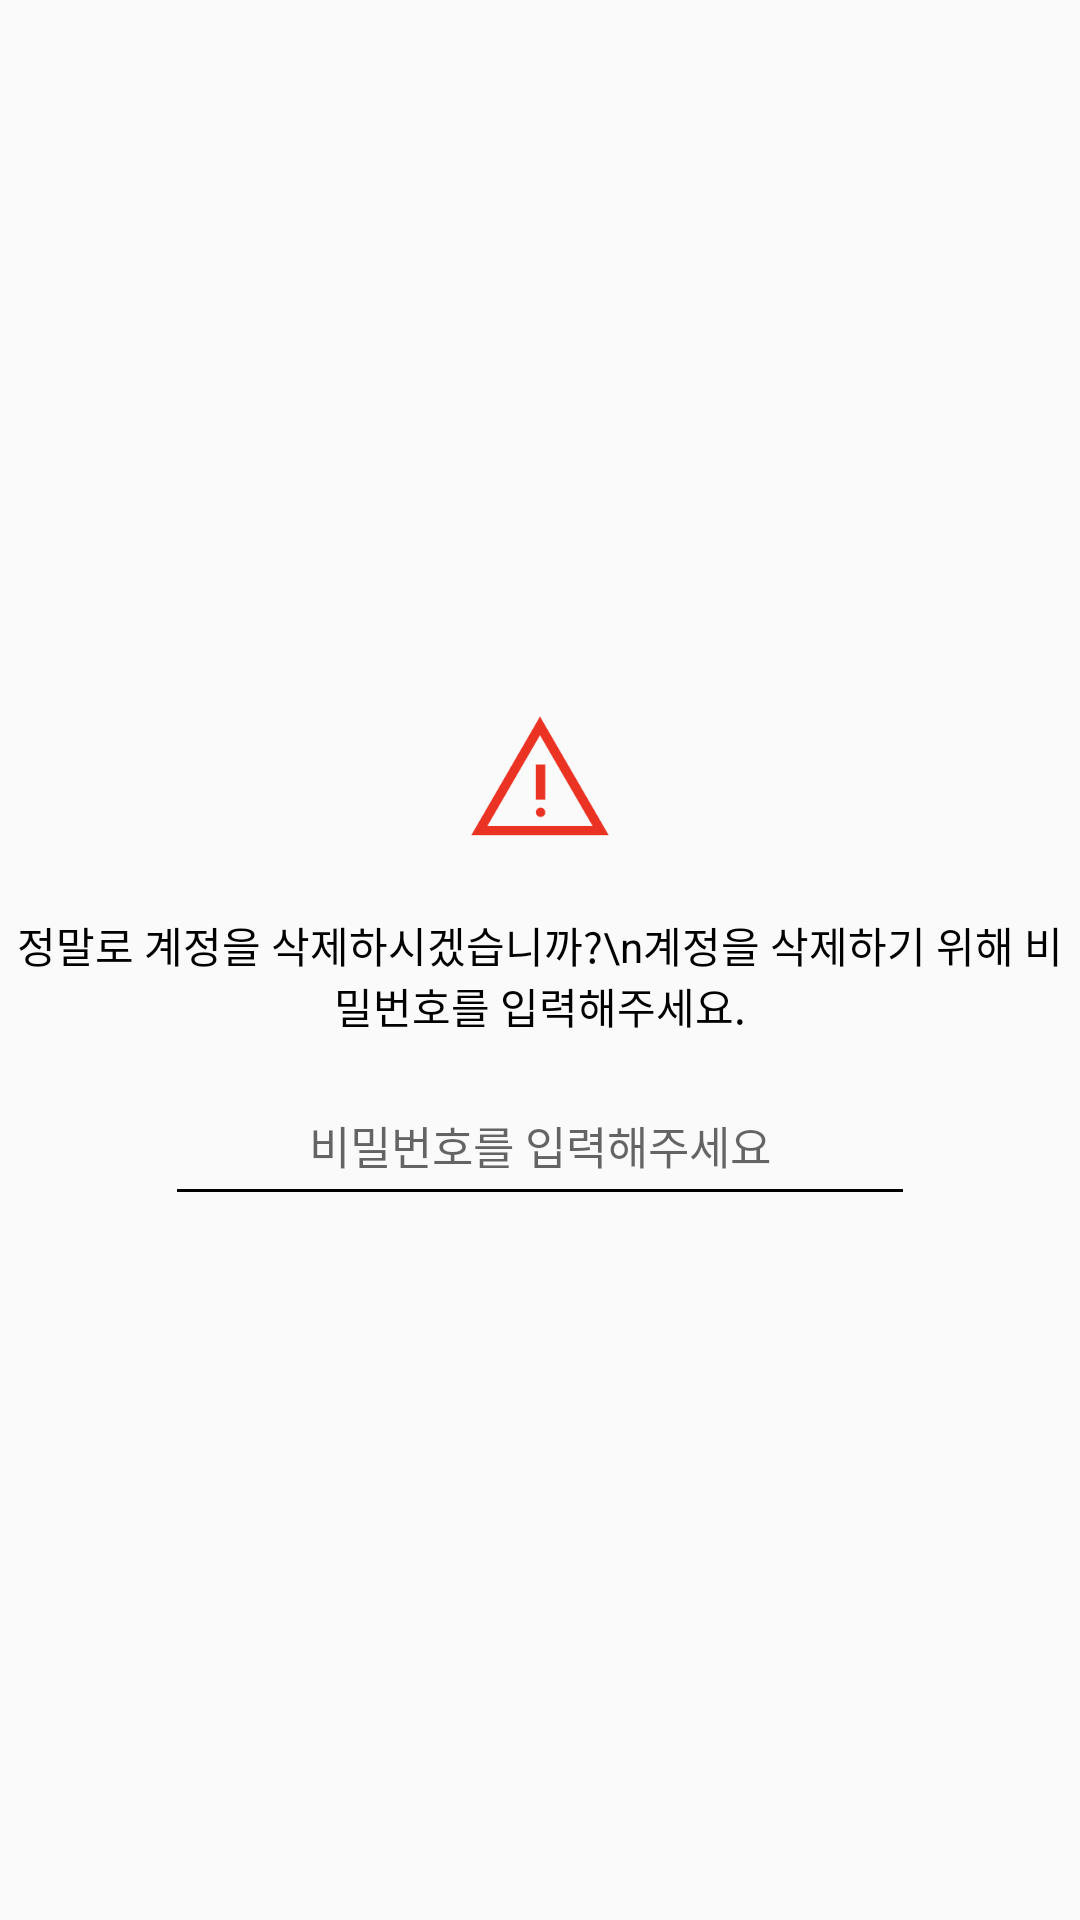

Icons on this 1080*1920 Android screen, each with the point to tap as [x,y]:
warning: [540,776]
